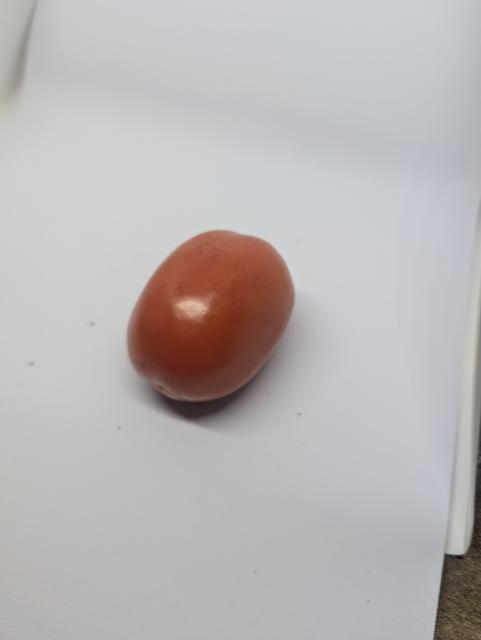red: (126, 227, 298, 407)
